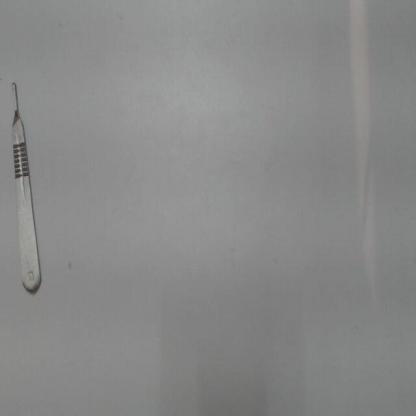No.3 BP Handle: (7, 73, 50, 308)
